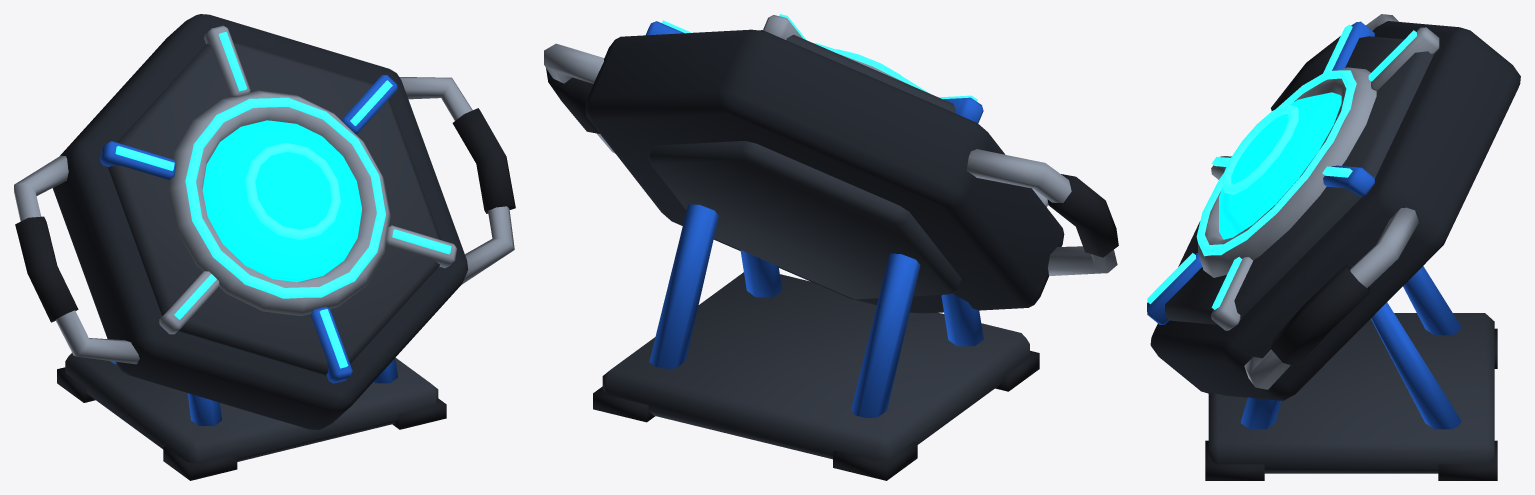
File: item_hardlight_cover.glb
The picture shows the model from 3 angles, left to right: view 1: azimuth 30°, elevation 25°; view 2: azimuth 150°, elevation 25°; view 3: azimuth 270°, elevation 25°; orthographic projection. The views are drawn at different scales.
Parts seen in each view (by area): view 1: HexDiscChassis, HexUpperArmorRing, CyanProjectorLens, CradleBasePlate, EmitterApertureBezel, LensOuterGlowRing, SideGripRail_0, SideGripRail_1, SideGripSleeve_0, SideGripSleeve_1, LensInnerCoreRing, SledPad_-0_-0 (+13 smaller); view 2: HexDiscChassis, CradleBasePlate, HexRearBattery, CradleYokeStrut_0, CradleYokeStrut_1, SideGripRail_0, SideGripSleeve_0, SideGripRail_1, SledPad_-0_+0, HexUpperArmorRing, SideGripSleeve_1, SledPad_+0_+0 (+1 smaller); view 3: HexDiscChassis, CradleBasePlate, HexUpperArmorRing, CyanProjectorLens, EmitterApertureBezel, CradleYokeStrut_1, SideGripSleeve_1, SideGripRail_1, LensOuterGlowRing, CradleYokeStrut_0, LensInnerCoreRing, EmitterVane_1 (+10 smaller).
Part boxes in pixels (x1,y1,x2,y2): HexDiscChassis: (52,14,468,430); HexUpperArmorRing: (108,41,440,375); CyanProjectorLens: (202,120,361,282); CradleBasePlate: (65,353,438,463); EmitterApertureBezel: (168,90,391,316); LensOuterGlowRing: (185,97,385,298); SideGripRail_0: (14,155,139,364); SideGripRail_1: (399,77,514,284); SideGripSleeve_0: (15,216,78,322); SideGripSleeve_1: (452,108,515,213); LensInnerCoreRing: (245,142,340,239); SledPad_-0_-0: (163,446,237,480); HexDiscChassis: (585,29,1064,313); CradleBasePlate: (602,272,1029,460); HexRearBattery: (648,141,961,299); CradleYokeStrut_0: (851,253,983,417); CradleYokeStrut_1: (649,204,782,368); SideGripRail_0: (967,149,1117,275); SideGripSleeve_0: (1047,174,1118,257); SideGripRail_1: (544,43,615,153); SledPad_-0_+0: (833,441,917,480); HexUpperArmorRing: (760,30,956,113); SideGripSleeve_1: (546,68,599,133); SledPad_+0_+0: (593,386,655,422); HexDiscChassis: (1150,21,1520,400); CradleBasePlate: (1208,313,1494,473); HexUpperArmorRing: (1165,36,1434,324); CyanProjectorLens: (1219,92,1341,239); EmitterApertureBezel: (1198,67,1376,277); CradleYokeStrut_1: (1240,302,1461,429); SideGripSleeve_1: (1270,265,1370,366); SideGripRail_1: (1244,207,1418,389); LensOuterGlowRing: (1196,70,1356,256); CradleYokeStrut_0: (1403,266,1461,335); LensInnerCoreRing: (1222,105,1298,194); EmitterVane_1: (1371,27,1439,90).
Size of the model in its own units: 0.572 by 0.3986 by 0.3531.
